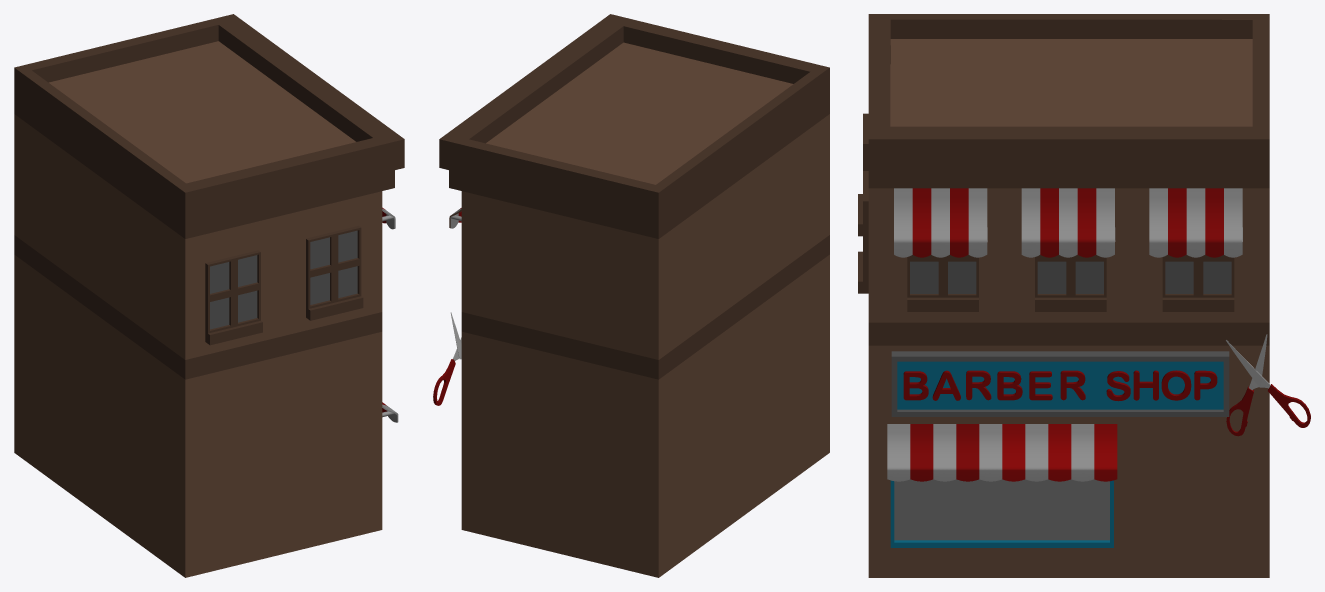
File: SM_barbershopbuilding 1.fbx
3 renders of one model, left to right at view 1: azimuth 30°, elevation 25°; view 2: azimuth 150°, elevation 25°; view 3: azimuth 270°, elevation 25°, orthographic. The views are drawn at different scales.
Visible parts, largest first — view 1: polySurface1; view 2: polySurface1; view 3: polySurface1.
Part boxes in pixels (box(x1,y1,x2,y2)): polySurface1: box(14, 14, 404, 577); polySurface1: box(433, 14, 829, 577); polySurface1: box(858, 14, 1310, 577).
Size of the model in its own units: 146 by 244 by 222.
